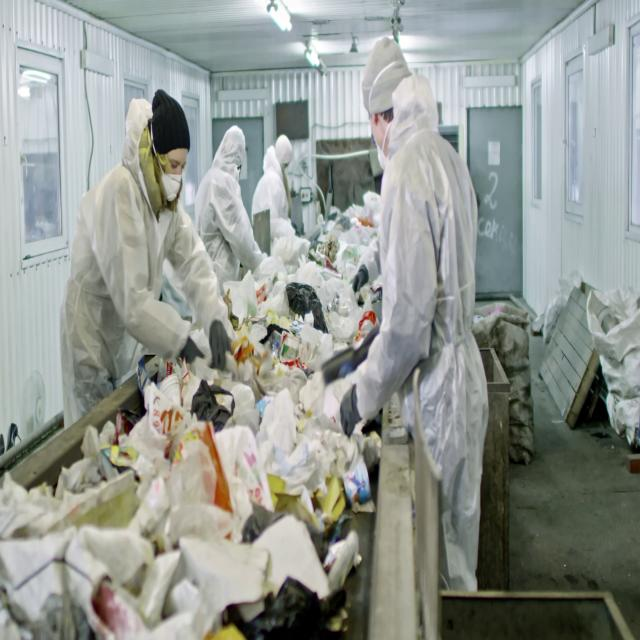gloved: (340, 383, 362, 438), (209, 320, 232, 370), (179, 336, 205, 364), (351, 264, 369, 294)
